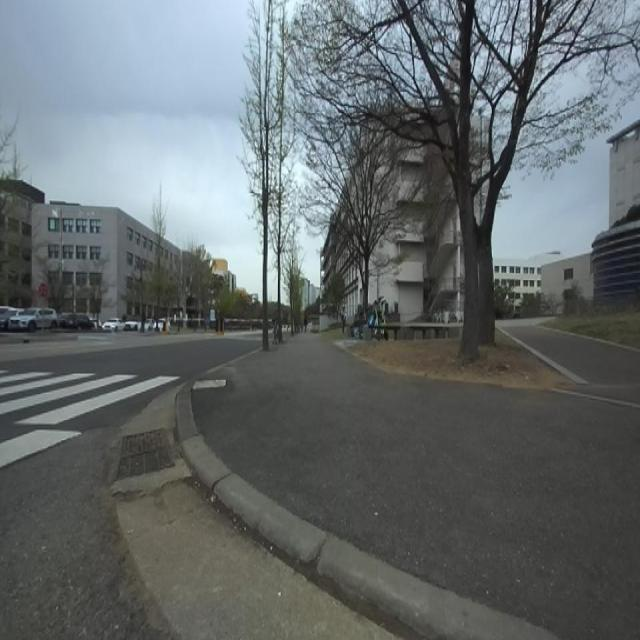sidewalk: (192, 335, 640, 638), (318, 536, 556, 640), (214, 474, 326, 562), (181, 436, 231, 489), (176, 381, 198, 442), (192, 380, 226, 389)
